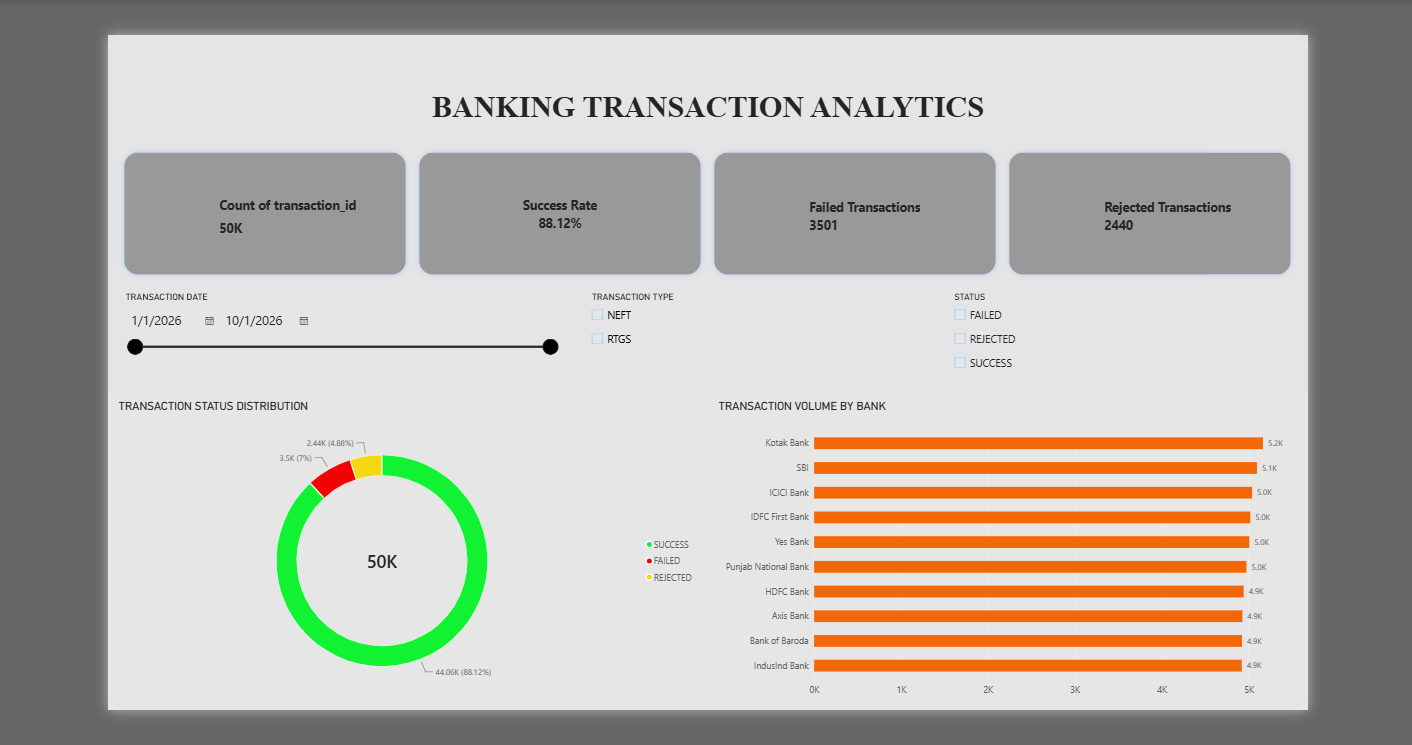

The page's visual inventory and layout, read from the dashboard file:
{"tool":"powerbi","page":{"name":"Page 1","canvas":[1920,1080],"ordinal":0},"visuals":[{"type":"cardVisual","fields":{"Data":["CountNonNull(banking_transactions.transaction_id)","bank_details.Success Rate","bank_details.Failed Transactions","bank_details.Rejected Transactions"]},"box":[0,161.1,1920,247],"z":0},{"type":"donutChart","title":"TRANSACTION STATUS DISTRIBUTION","fields":{"Category":["banking_transactions.status"],"Y":["CountNonNull(banking_transactions.transaction_id)"]},"box":[0,568.7,960,511],"z":1000},{"type":"clusteredBarChart","title":"TRANSACTION VOLUME BY BANK","fields":{"Category":["banking_transactions.sender_bank"],"Y":["CountNonNull(banking_transactions.transaction_id)"]},"box":[960,568.7,960,511],"z":2000},{"type":"slicer","fields":{"Values":["banking_transactions.transaction_date"]},"box":[0,389.1,744.1,179.6],"z":3000},{"type":"slicer","fields":{"Values":["banking_transactions.status"]},"box":[1326.5,390.9,594.4,179.6],"z":4000},{"type":"slicer","fields":{"Values":["banking_transactions.transaction_type"]},"box":[745.6,389.1,580.9,179.2],"z":5000},{"type":"textbox","box":[0,88.7,1920.1,72.4],"z":6000}]}

Visuals, with their boxes on the page's 1920x1080 design canvas (x1, y1, x2, y2). These are canvas units, not pixel positions in the 1412x745 screenshot, which may show the page scaled, cropped or inside an application window:
cardVisual - CountNonNull(banking_transactions.transaction_id) x bank_details.Success Rate: detection(0, 161, 1920, 408)
"TRANSACTION STATUS DISTRIBUTION" donutChart: detection(0, 569, 960, 1080)
"TRANSACTION VOLUME BY BANK" clusteredBarChart: detection(960, 569, 1920, 1080)
slicer - banking_transactions.transaction_date: detection(0, 389, 744, 569)
slicer - banking_transactions.status: detection(1326, 391, 1921, 570)
slicer - banking_transactions.transaction_type: detection(746, 389, 1326, 568)
textbox: detection(0, 89, 1920, 161)
